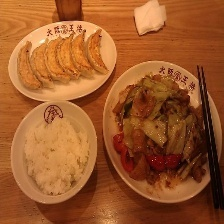rice: (22, 114, 93, 199)
